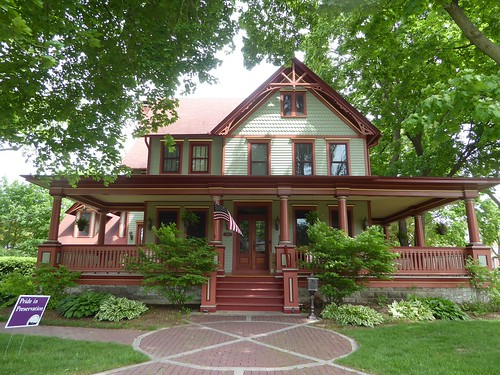medium: (18, 56, 498, 322)
